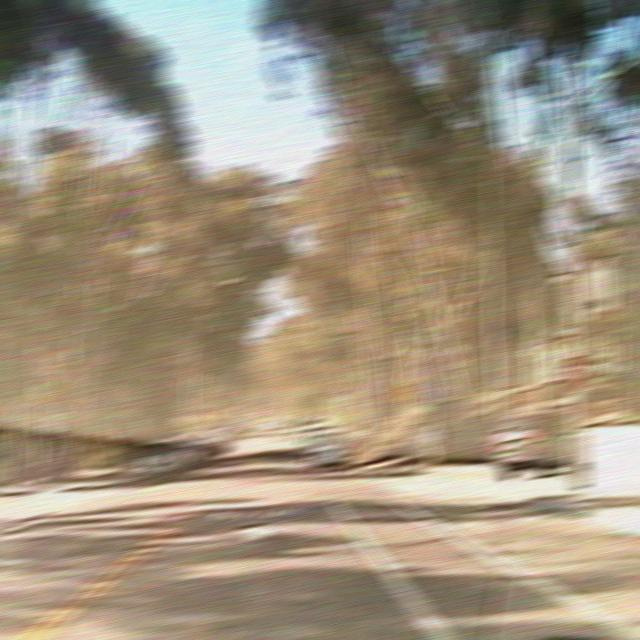stop_sign: (559, 354, 589, 389)
